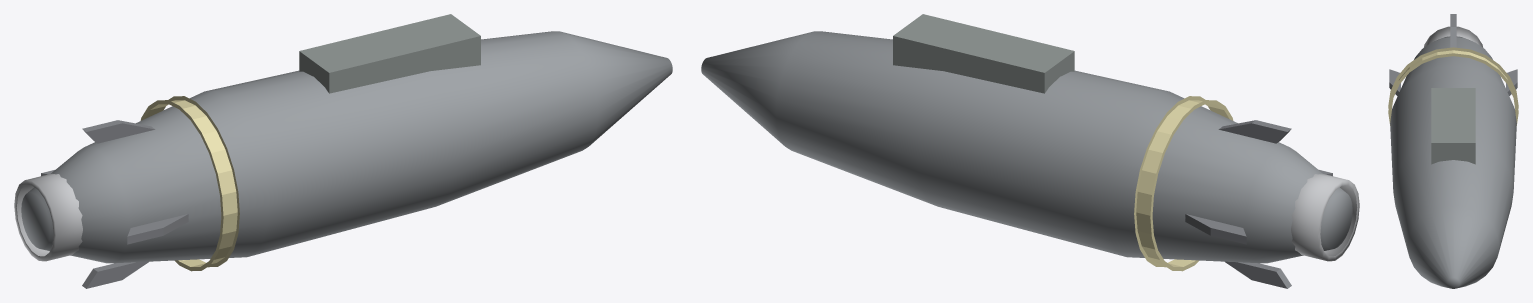
The model's file is US_SPECIAL_SDV_Mk8_LOD1.fbx.
3 views of the same model, side by side, from view 1: azimuth 30°, elevation 25°; view 2: azimuth 150°, elevation 25°; view 3: azimuth 270°, elevation 25° (orthographic). The views are drawn at different scales.
Visible parts, largest first — view 1: WPN_US_SPECIAL_SDV_Mk8_LOD1_Body, WPN_US_SPECIAL_SDV_Mk8_LOD1_Shell, WPN_US_SPECIAL_SDV_Mk8_LOD1_Marking, WPN_US_SPECIAL_SDV_Mk8_LOD1_Propulsor, WPN_US_SPECIAL_SDV_Mk8_LOD1_Fins; view 2: WPN_US_SPECIAL_SDV_Mk8_LOD1_Body, WPN_US_SPECIAL_SDV_Mk8_LOD1_Shell, WPN_US_SPECIAL_SDV_Mk8_LOD1_Marking, WPN_US_SPECIAL_SDV_Mk8_LOD1_Propulsor, WPN_US_SPECIAL_SDV_Mk8_LOD1_Fins; view 3: WPN_US_SPECIAL_SDV_Mk8_LOD1_Body, WPN_US_SPECIAL_SDV_Mk8_LOD1_Shell, WPN_US_SPECIAL_SDV_Mk8_LOD1_Marking, WPN_US_SPECIAL_SDV_Mk8_LOD1_Fins, WPN_US_SPECIAL_SDV_Mk8_LOD1_Propulsor.
Part boxes in pixels (box(x1,y1,x2,y2)): WPN_US_SPECIAL_SDV_Mk8_LOD1_Body: box(21, 31, 672, 263); WPN_US_SPECIAL_SDV_Mk8_LOD1_Shell: box(299, 14, 480, 93); WPN_US_SPECIAL_SDV_Mk8_LOD1_Marking: box(140, 96, 239, 271); WPN_US_SPECIAL_SDV_Mk8_LOD1_Propulsor: box(14, 173, 82, 261); WPN_US_SPECIAL_SDV_Mk8_LOD1_Fins: box(41, 120, 188, 288); WPN_US_SPECIAL_SDV_Mk8_LOD1_Body: box(701, 31, 1352, 263); WPN_US_SPECIAL_SDV_Mk8_LOD1_Shell: box(893, 14, 1074, 93); WPN_US_SPECIAL_SDV_Mk8_LOD1_Marking: box(1134, 96, 1233, 271); WPN_US_SPECIAL_SDV_Mk8_LOD1_Propulsor: box(1291, 173, 1359, 261); WPN_US_SPECIAL_SDV_Mk8_LOD1_Fins: box(1185, 120, 1332, 288); WPN_US_SPECIAL_SDV_Mk8_LOD1_Body: box(1390, 36, 1516, 288); WPN_US_SPECIAL_SDV_Mk8_LOD1_Shell: box(1431, 88, 1475, 164); WPN_US_SPECIAL_SDV_Mk8_LOD1_Marking: box(1388, 47, 1518, 125); WPN_US_SPECIAL_SDV_Mk8_LOD1_Fins: box(1389, 14, 1517, 95); WPN_US_SPECIAL_SDV_Mk8_LOD1_Propulsor: box(1423, 26, 1483, 47).
Size of the model in its own units: 6.41 by 1.54 by 1.65.
